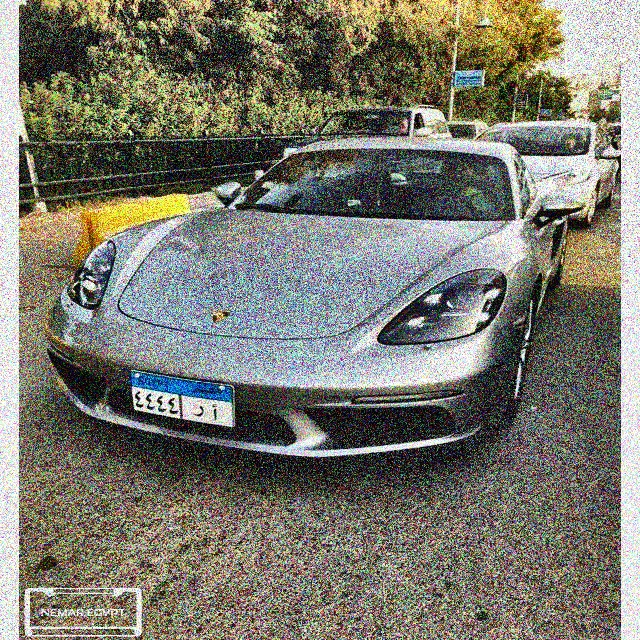License Plate: (127, 366, 238, 430)
